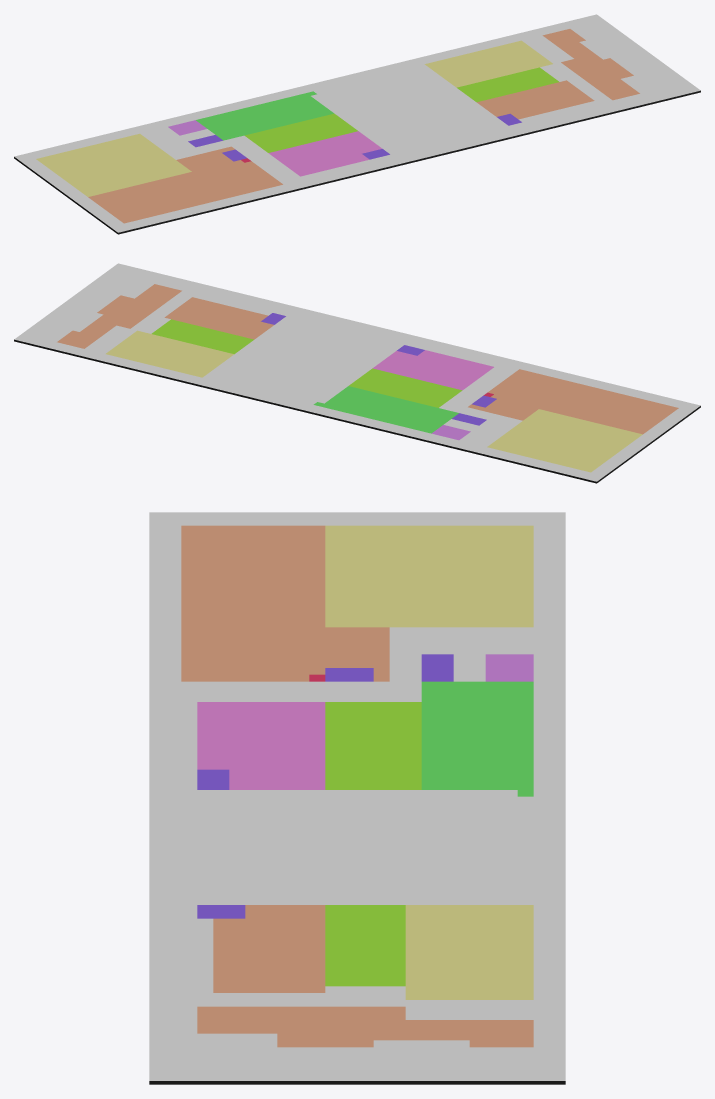
File: SM_TrainStationFloor1.fbx
3 renders of one model, top to bottom at view 1: azimuth 30°, elevation 25°; view 2: azimuth 150°, elevation 25°; view 3: azimuth 270°, elevation 25°, orthographic. The views are drawn at different scales.
Visible parts, largest first — view 1: Floor; view 2: Floor; view 3: Floor.
Boxes of the visible parts, x1,y1,x2,y2 form: Floor: [14, 14, 700, 234]; Floor: [14, 263, 700, 483]; Floor: [149, 512, 565, 1084].
Bounding box in the file's own units: 33600 × 100 × 10400.
